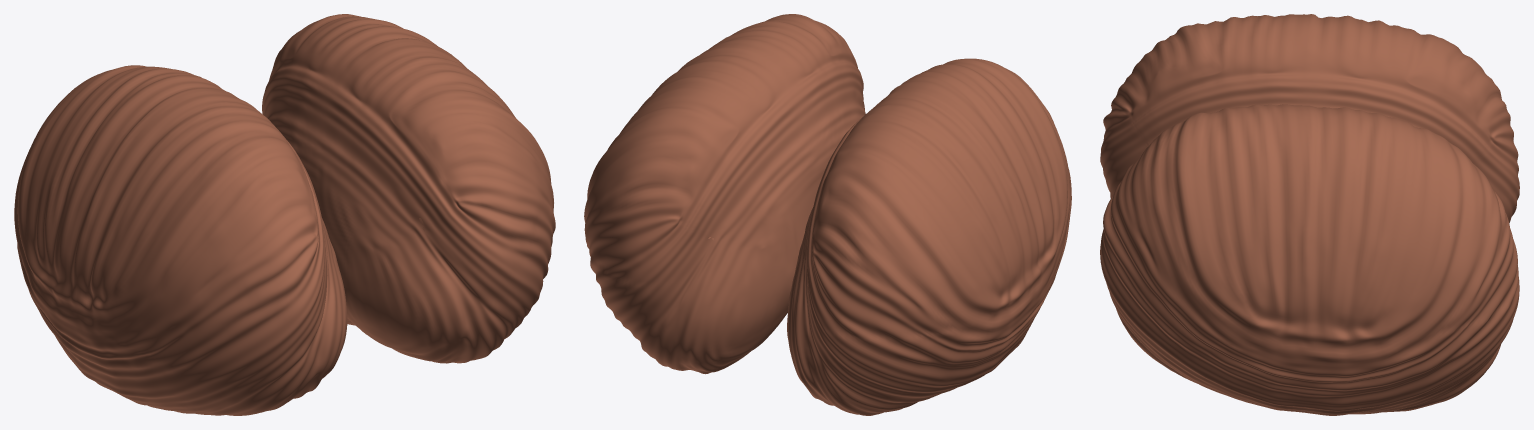
Rendered from 女性_感觉系统_平衡感觉.fbx.
3 renders of one model, left to right at view 1: azimuth 30°, elevation 25°; view 2: azimuth 150°, elevation 25°; view 3: azimuth 270°, elevation 25°, orthographic. The views are drawn at different scales.
Parts seen in each view (by area): view 1: 女性_感觉系统_平衡感觉; view 2: 女性_感觉系统_平衡感觉; view 3: 女性_感觉系统_平衡感觉.
Part boxes in pixels (x1,y1,x2,y2): 女性_感觉系统_平衡感觉: (14,14,555,415); 女性_感觉系统_平衡感觉: (584,14,1071,415); 女性_感觉系统_平衡感觉: (1100,14,1519,415).
Size of the model in its own units: 6.58 by 4.43 by 5.78.
